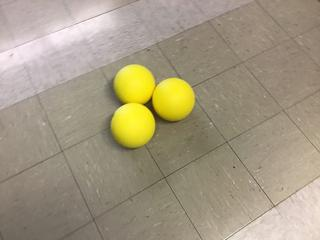power_cell: (152, 74, 200, 124), (109, 102, 156, 150), (109, 62, 158, 108)
